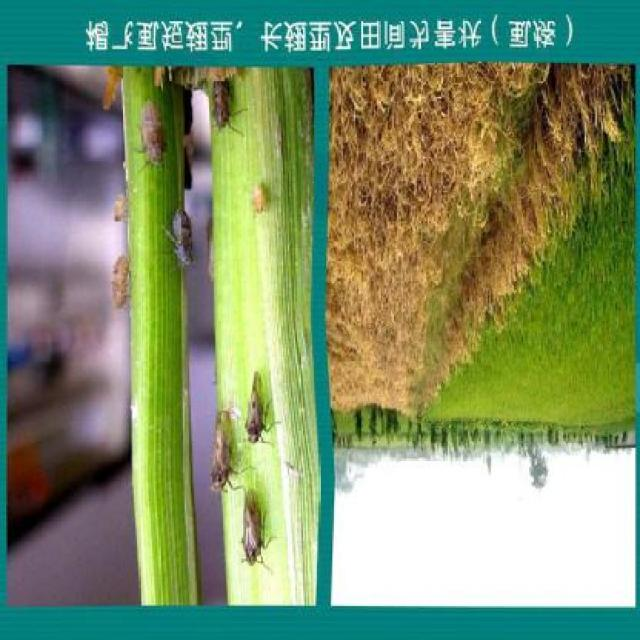brown-planthopper: (238, 492, 270, 571), (134, 97, 169, 168), (243, 371, 272, 449), (208, 408, 232, 495), (168, 208, 198, 275), (108, 251, 132, 314), (210, 77, 236, 132), (249, 183, 269, 215), (111, 191, 129, 223)
